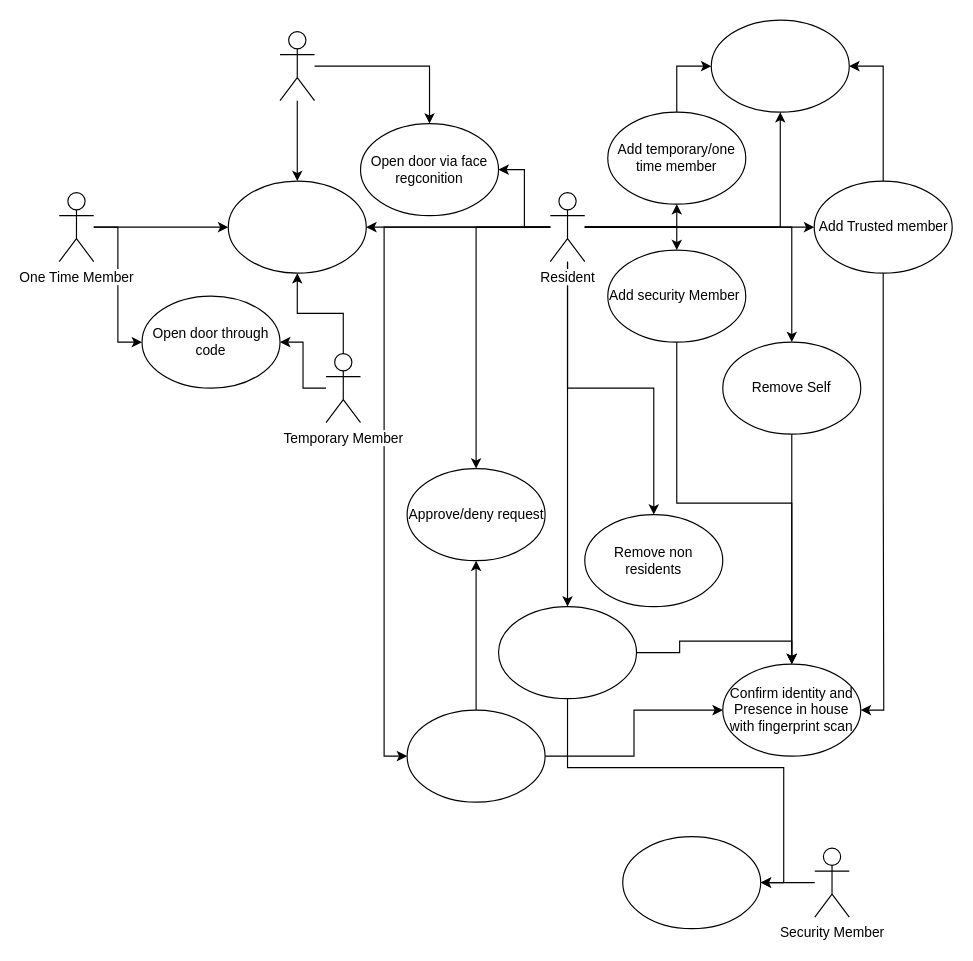
Some shapes in this 973 by 961 pixel diagram are drawn without their labels. The shapes that lost their labels are listed below. From the top down, each one's centre as x and y in pixels, then its label:
At [297,65]: "Trusted Member".
At [779,65]: "Opportunity to Veto Request".
At [296,226]: "Lock Door".
At [567,652]: "Hostile removal of Resident".
At [475,755]: "Add Resident".
At [691,882]: "Confirm Hostile Removal of Resident".
